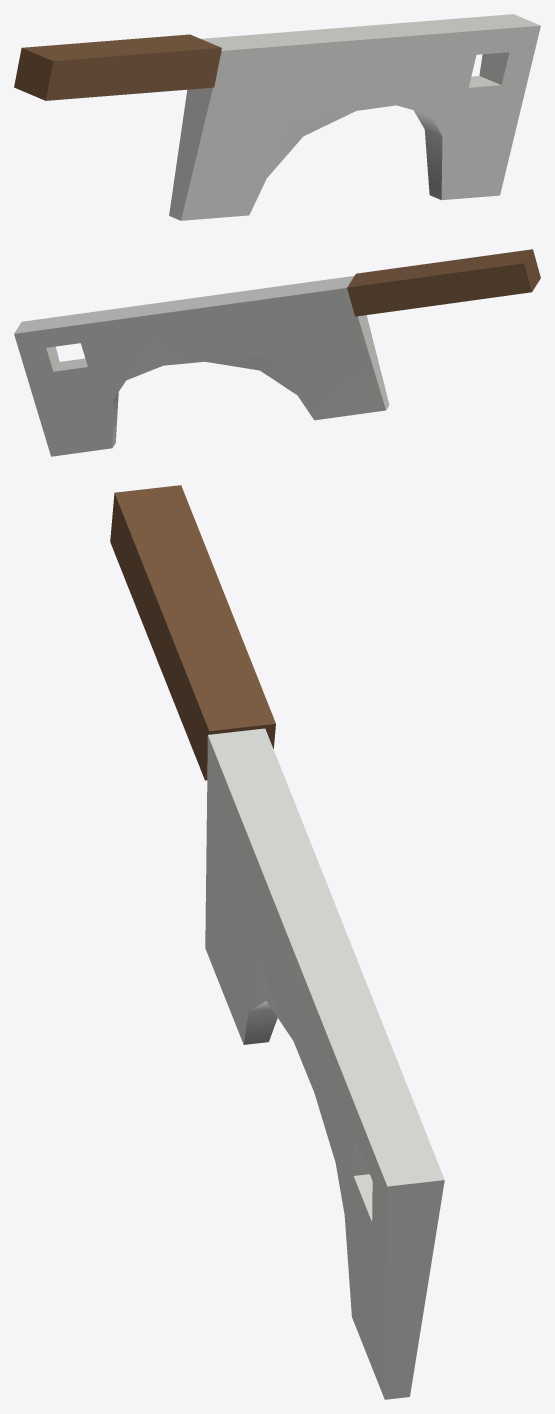
Rendered from M_ACC_Hat_D.FBX.
3 renders of one model, top to bottom at view 1: azimuth 30°, elevation 25°; view 2: azimuth 150°, elevation 25°; view 3: azimuth 270°, elevation 25°, orthographic. The views are drawn at different scales.
Visible parts, largest first — view 1: M_ACC_Hat_D; view 2: M_ACC_Hat_D; view 3: M_ACC_Hat_D.
Part boxes in pixels (left/top/right/bottom): M_ACC_Hat_D: left=14, top=14, right=540, bottom=220; M_ACC_Hat_D: left=14, top=249, right=540, bottom=456; M_ACC_Hat_D: left=110, top=485, right=444, bottom=1399.
Bounding box in the file's own units: 115 × 60.81 × 36.44.
